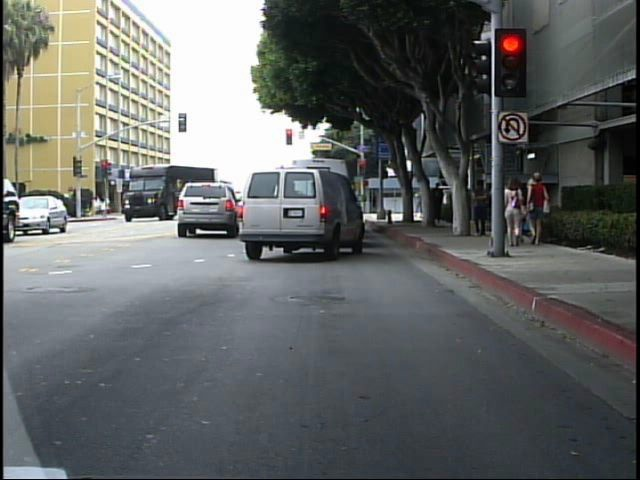person: (526, 166, 553, 251), (504, 170, 528, 252), (470, 175, 493, 242), (430, 175, 448, 230), (412, 185, 424, 217)
